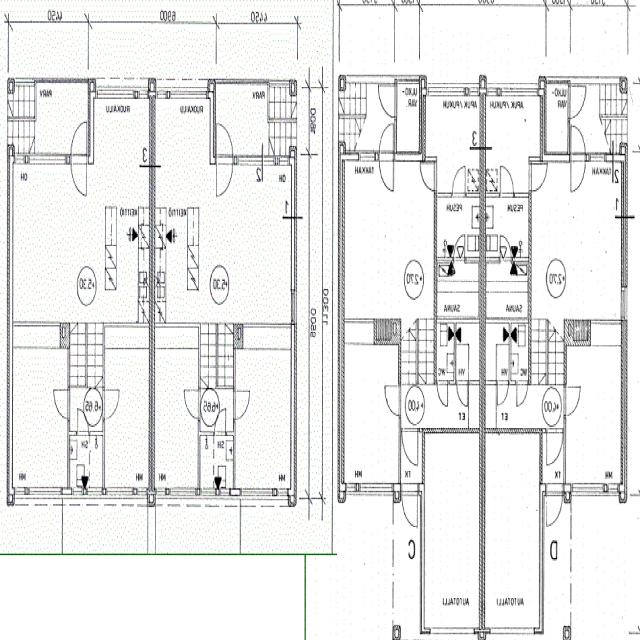door: (546, 482, 562, 528), (217, 123, 233, 166), (217, 155, 233, 198), (568, 86, 587, 118), (546, 429, 562, 465), (571, 125, 585, 162), (571, 153, 585, 190), (233, 391, 250, 420), (564, 388, 581, 416), (184, 390, 200, 419), (528, 163, 545, 190), (500, 167, 514, 197), (516, 380, 528, 407), (214, 410, 226, 435), (501, 235, 511, 263), (498, 380, 508, 406)
